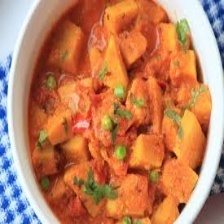sabzi: (24, 0, 211, 224)
